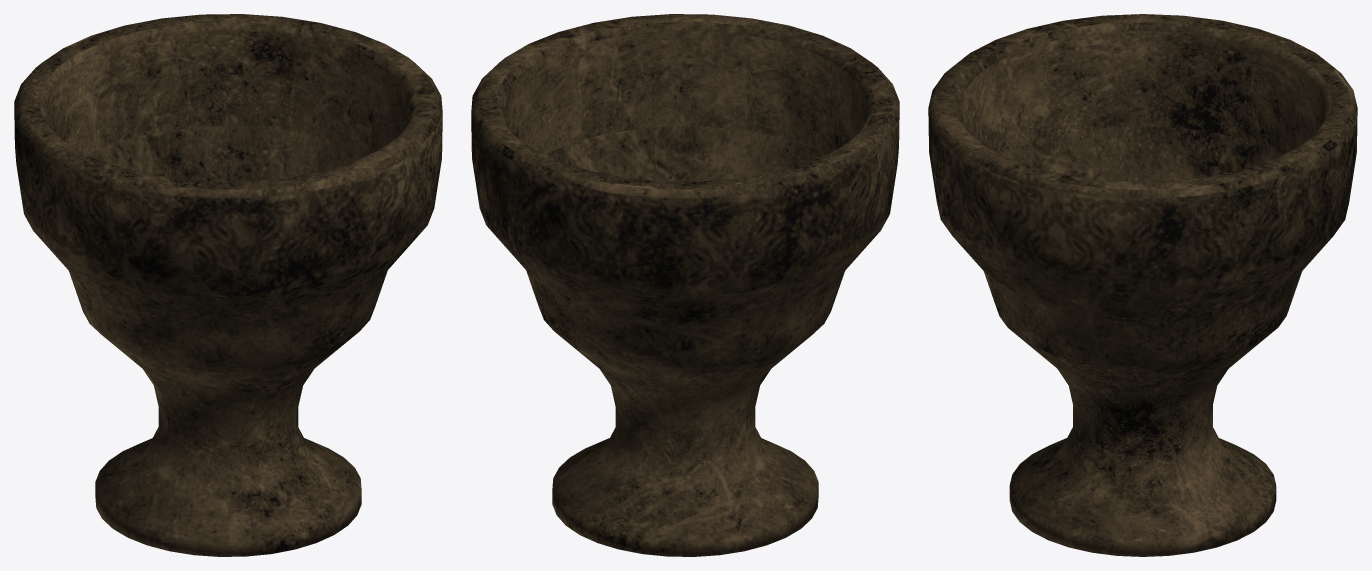
The model's file is goblet.glb.
The picture shows the model from 3 angles, left to right: view 1: azimuth 30°, elevation 25°; view 2: azimuth 150°, elevation 25°; view 3: azimuth 270°, elevation 25°; orthographic projection.
Visible parts, largest first — view 1: Object_2; view 2: Object_2; view 3: Object_2.
Part boxes in pixels (x1=…): Object_2: x1=14, y1=14, x2=442, y2=556; Object_2: x1=471, y1=14, x2=899, y2=556; Object_2: x1=928, y1=14, x2=1357, y2=556.
Size of the model in its own units: 0.6022 by 0.6172 by 0.6022.
1 material, 1 textured.
